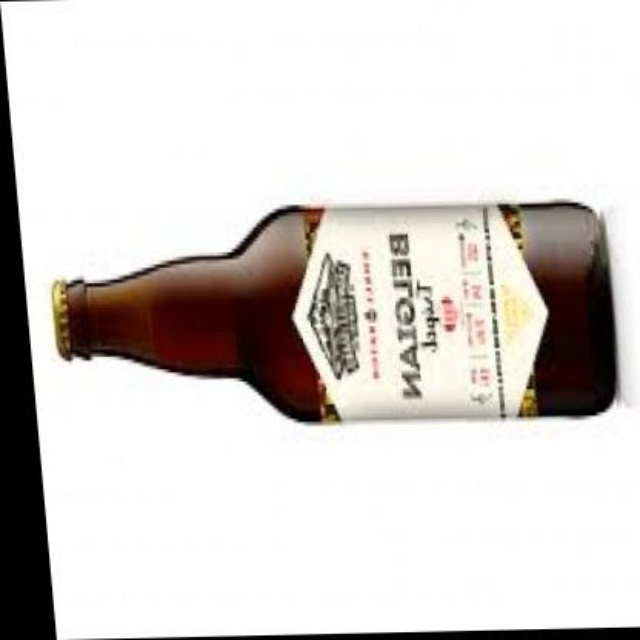trash: (52, 203, 614, 420)
